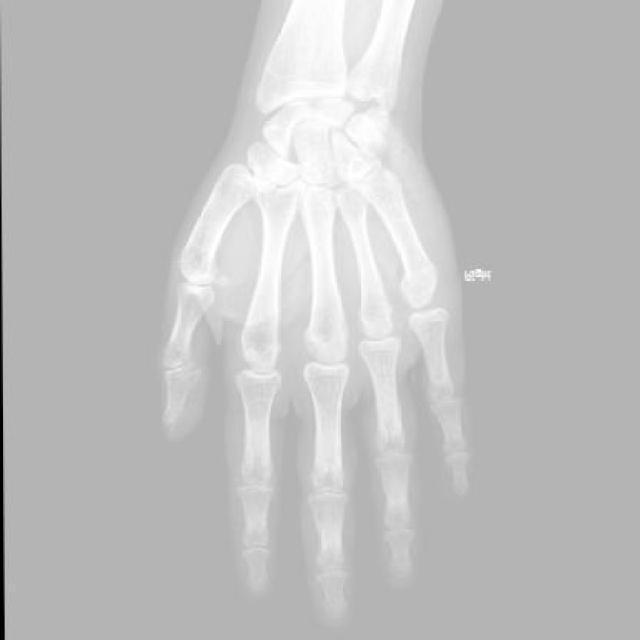Fracture: (399, 262, 439, 301)
